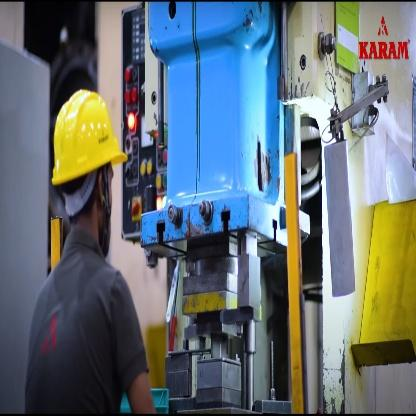helmet: (32, 82, 131, 255)
